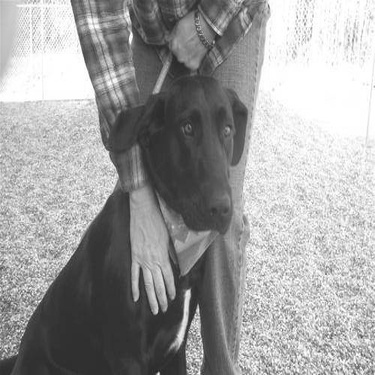dog: (1, 72, 255, 372)
